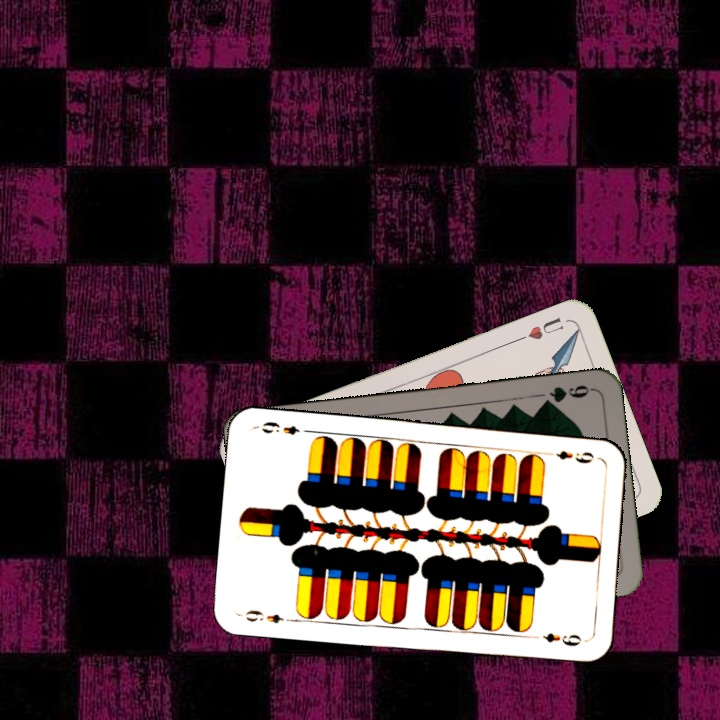E9: (542, 446, 597, 466), (237, 606, 286, 626)
G9: (537, 381, 595, 409)
HU: (513, 313, 567, 344)
